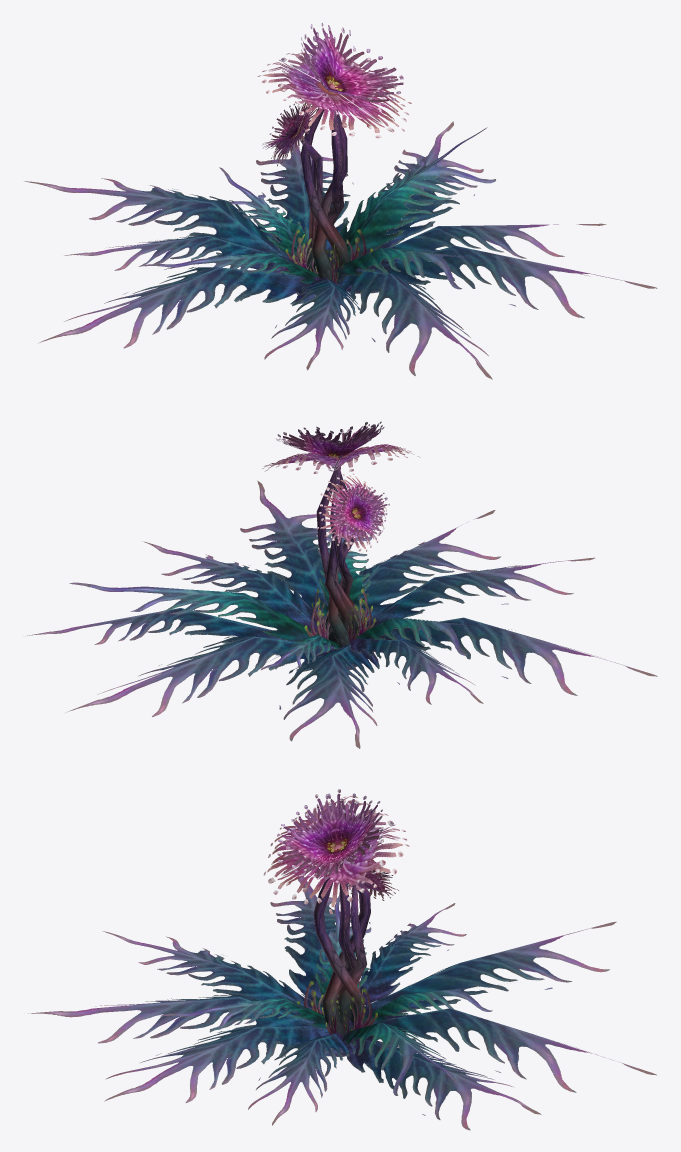
Rendered from Yland2_zb_03 Yland2.FBX.
3 renders of one model, top to bottom at view 1: azimuth 30°, elevation 25°; view 2: azimuth 150°, elevation 25°; view 3: azimuth 270°, elevation 25°, orthographic. The views are drawn at different scales.
Parts seen in each view (by area): view 1: Yland2_zb_03 Yland2; view 2: Yland2_zb_03 Yland2; view 3: Yland2_zb_03 Yland2.
Boxes of the visible parts, x1=… form: Yland2_zb_03 Yland2: x1=24, y1=23, x2=657, y2=379; Yland2_zb_03 Yland2: x1=25, y1=421, x2=657, y2=748; Yland2_zb_03 Yland2: x1=28, y1=789, x2=656, y2=1130.
Bounding box in the file's own units: 43.78 × 20.29 × 44.8.
